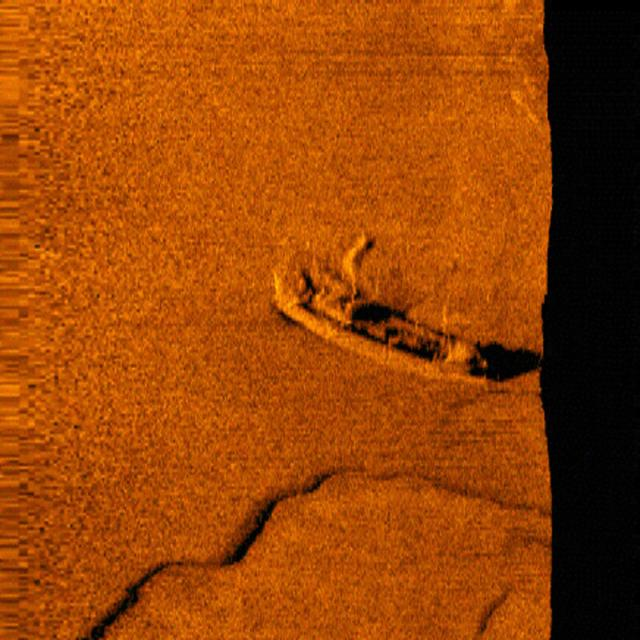ship: (270, 256, 499, 392)
